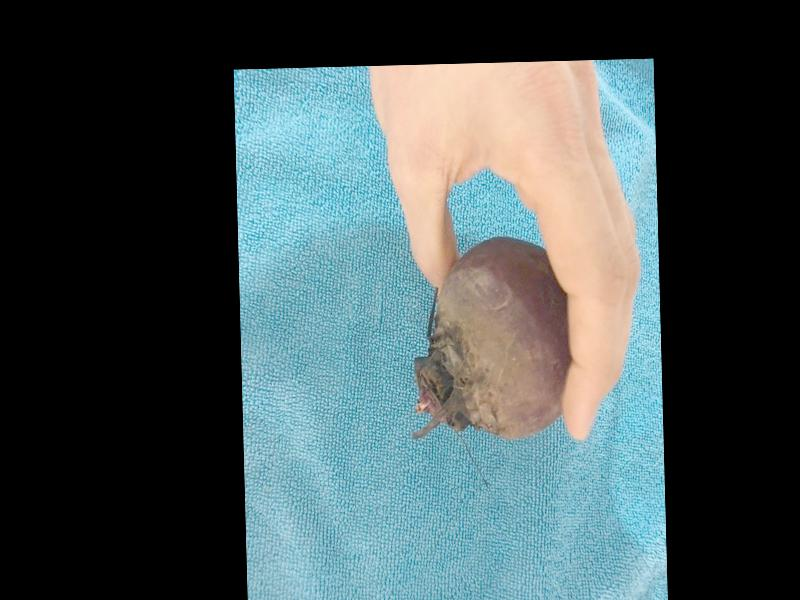Beet: (407, 237, 571, 440)
